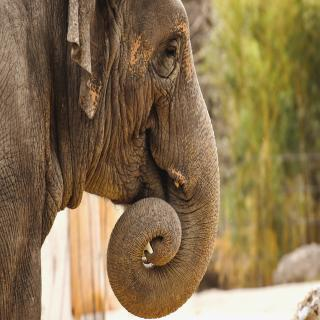Elephant: (0, 0, 226, 320)
